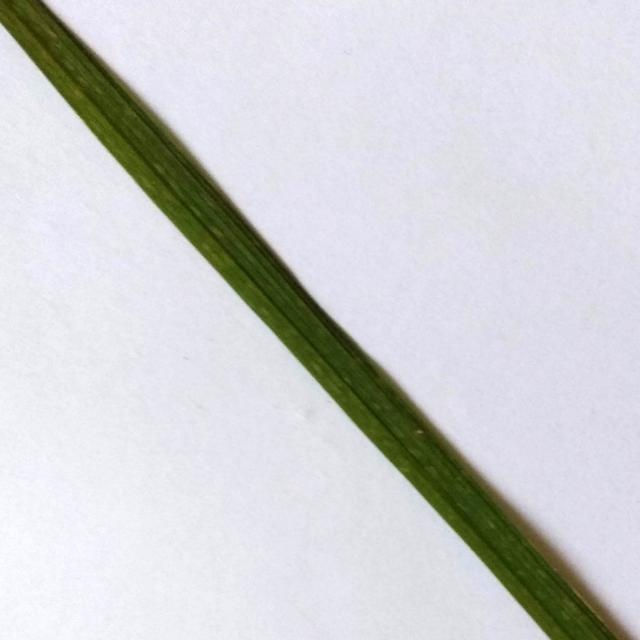Rice_Healthy: (0, 0, 629, 640)
